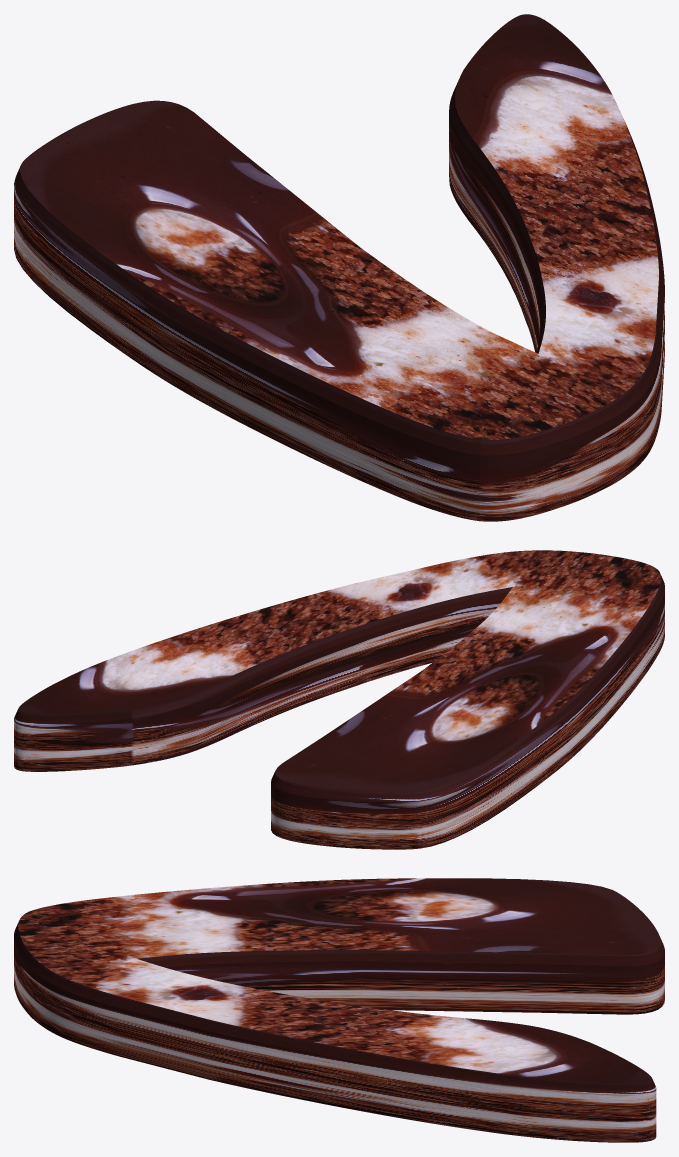
File: myV.FBX
The picture shows the model from 3 angles, top to bottom: view 1: azimuth 30°, elevation 25°; view 2: azimuth 150°, elevation 25°; view 3: azimuth 270°, elevation 25°; orthographic projection. The views are drawn at different scales.
Visible parts, largest first — view 1: myB; view 2: myB; view 3: myB.
Boxes of the visible parts, bbox=[...] form: myB: bbox=[14, 14, 664, 521]; myB: bbox=[14, 550, 664, 849]; myB: bbox=[14, 878, 664, 1142].
Bounding box in the file's own units: 46.2 × 6 × 61.
Materials: 1 (1 with a texture image).
